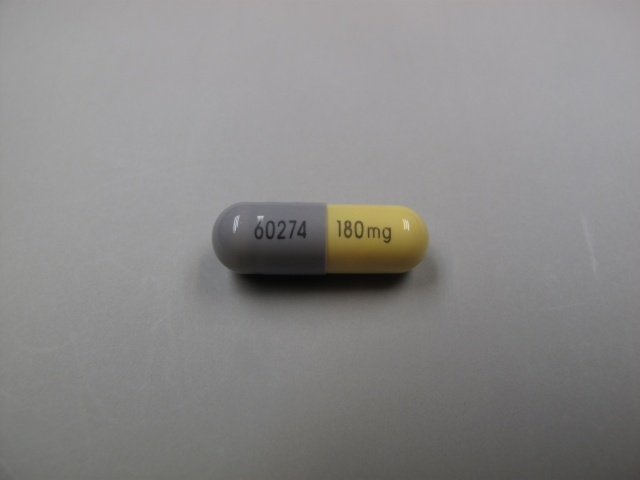capsule: (211, 203, 433, 277)
